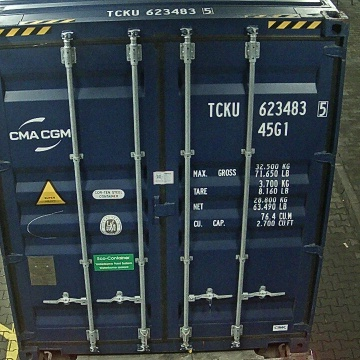serial_id: (207, 101, 326, 117)
